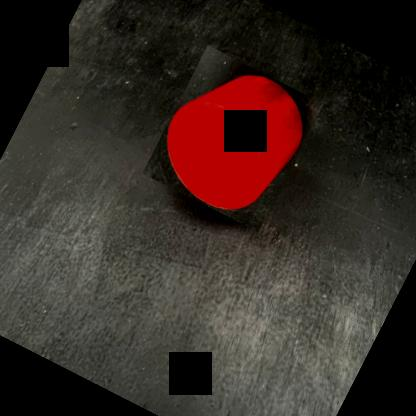red cylinder: (142, 44, 323, 232)
